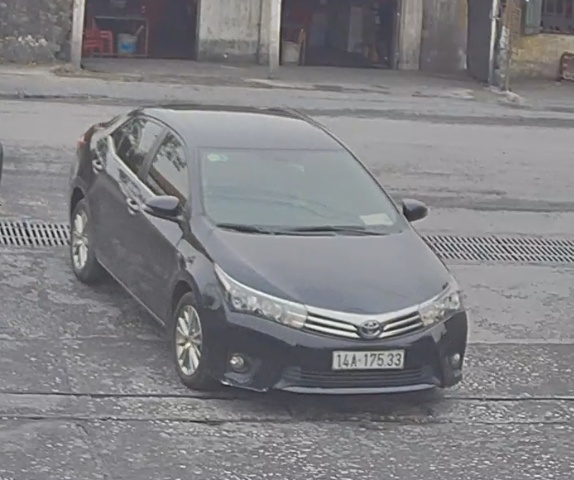vehicle plate: (329, 347, 409, 370)
